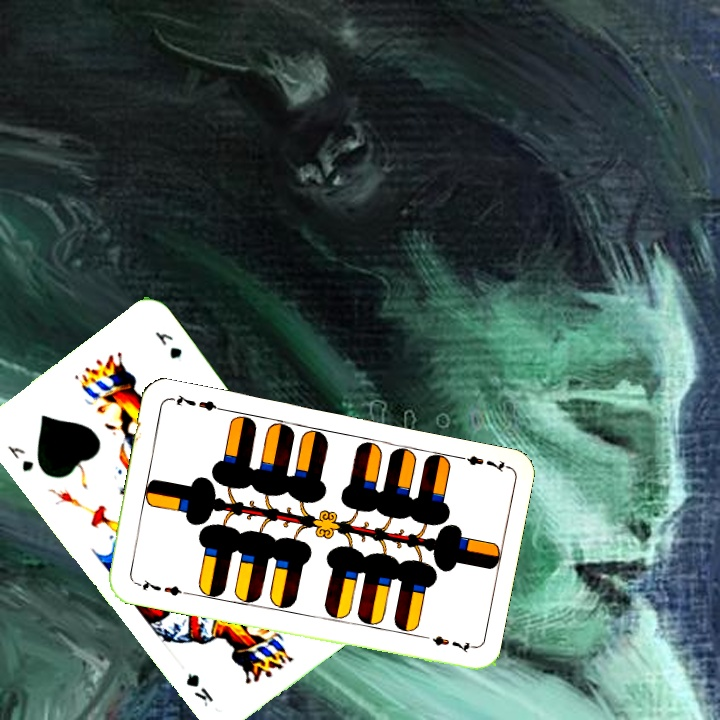E7: (451, 451, 509, 475), (131, 575, 189, 598)
GK: (3, 441, 36, 475)
